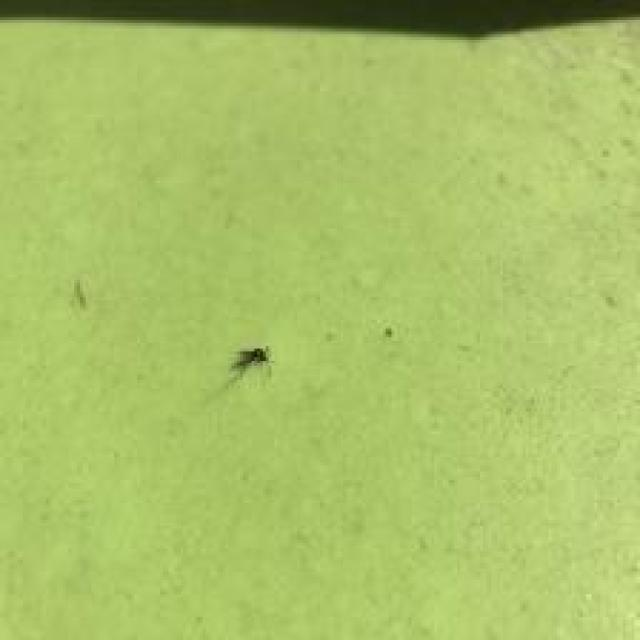Aedes albopictus: (228, 344, 272, 382)
